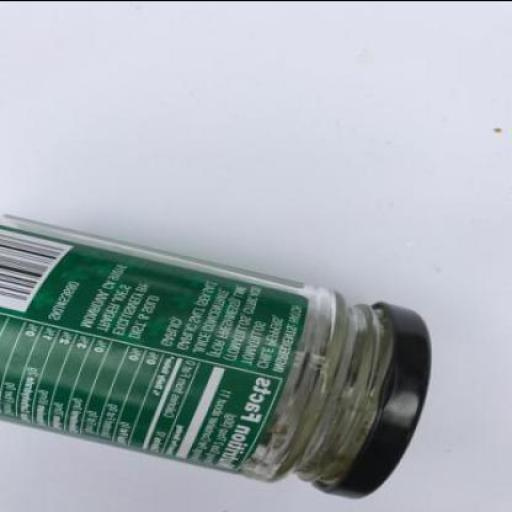glass: (0, 210, 391, 483)
metal: (312, 301, 430, 497)
